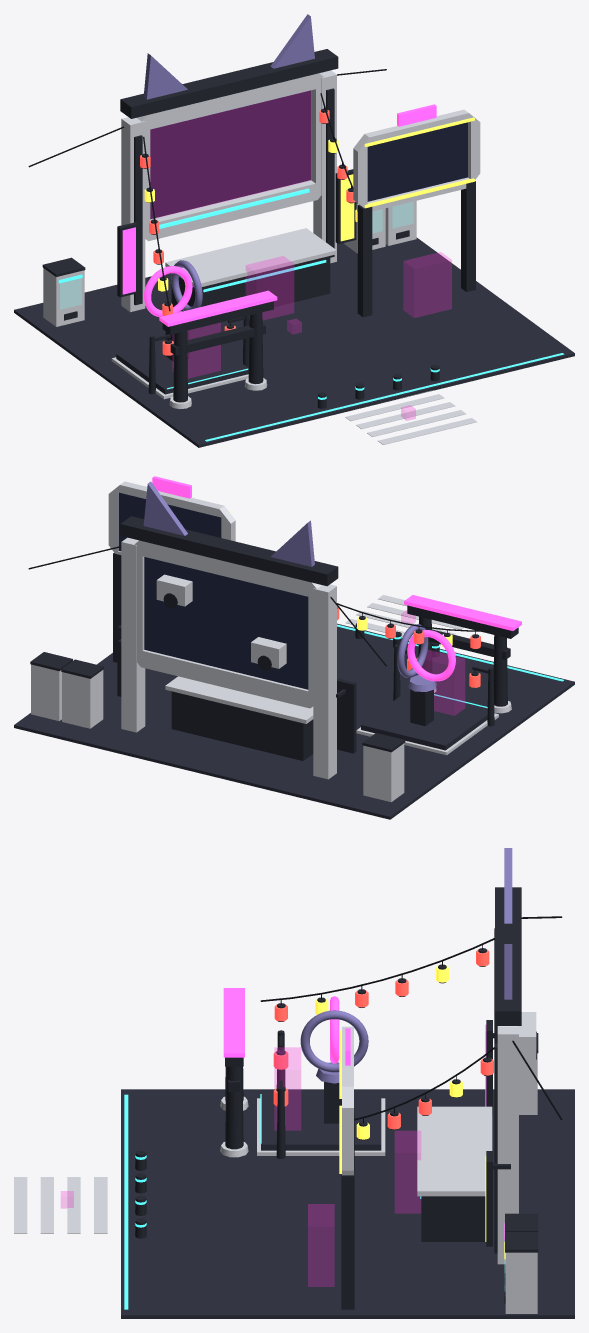
Rendered from AAT_QuestBond.glb.
The picture shows the model from 3 angles, top to bottom: view 1: azimuth 30°, elevation 25°; view 2: azimuth 150°, elevation 25°; view 3: azimuth 270°, elevation 25°; orthographic projection. The views are drawn at different scales.
Parts seen in each view (by area): view 1: Floor_QuestDistrict__floor, QuestBondDeco__pearl, MK_Screen_Quests, QuestScreen__screen, QuestBondDeco__graphite, EventsScreen__screen, Wall_QuestKiosk__graphite, Floor_BondShrine__floor, QuestBondDeco__magenta, MK_Station_Events, QuestBondDeco__bio, Wall_QuestScreenPostL__pearl (+12 smaller); view 2: Floor_QuestDistrict__floor, QuestBondDeco__pearl, QuestScreen__screen, QuestBondDeco__graphite, Wall_QuestKiosk__graphite, Wall_QuestScreenPostL__pearl, Floor_BondShrine__floor, Wall_QuestScreenPostR__pearl, QuestBondDeco__lavender, QuestBondDeco__magenta, EventsScreen__screen, MK_Station_Bonds (+7 smaller); view 3: Floor_QuestDistrict__floor, QuestBondDeco__pearl, QuestBondDeco__graphite, Floor_BondShrine__floor, Wall_QuestScreenPostR__pearl, Wall_QuestKiosk__graphite, MK_Station_Events, MK_Station_Quests, QuestBondDeco__magenta, Wall_EventsPostR__graphite, QuestBondDeco__lantern, MK_Station_Bonds (+6 smaller).
Boxes of the visible parts, left/top/right/bottom form: Floor_QuestDistrict__floor: left=14, top=237, right=574, bottom=447; QuestBondDeco__pearl: left=43, top=73, right=480, bottom=444; MK_Screen_Quests: left=150, top=90, right=311, bottom=219; QuestScreen__screen: left=150, top=90, right=310, bottom=219; QuestBondDeco__graphite: left=42, top=49, right=439, bottom=408; EventsScreen__screen: left=367, top=122, right=467, bottom=201; Wall_QuestKiosk__graphite: left=171, top=256, right=330, bottom=311; Floor_BondShrine__floor: left=116, top=333, right=248, bottom=394; QuestBondDeco__magenta: left=122, top=104, right=436, bottom=326; MK_Station_Events: left=403, top=252, right=451, bottom=317; QuestBondDeco__bio: left=58, top=188, right=564, bottom=441; Wall_QuestScreenPostL__pearl: left=121, top=117, right=145, bottom=312; Floor_QuestDistrict__floor: left=14, top=623, right=574, bottom=819; QuestBondDeco__pearl: left=31, top=481, right=511, bottom=802; QuestScreen__screen: left=144, top=557, right=308, bottom=689; QuestBondDeco__graphite: left=30, top=516, right=518, bottom=753; Wall_QuestKiosk__graphite: left=171, top=691, right=313, bottom=760; Wall_QuestScreenPostL__pearl: left=313, top=584, right=336, bottom=779; Floor_BondShrine__floor: left=361, top=689, right=487, bottom=750; Wall_QuestScreenPostR__pearl: left=121, top=537, right=145, bottom=732; QuestBondDeco__lavender: left=143, top=481, right=436, bottom=691; QuestBondDeco__magenta: left=152, top=476, right=521, bottom=630; EventsScreen__screen: left=118, top=492, right=221, bottom=551; MK_Station_Bonds: left=417, top=650, right=464, bottom=715; Floor_QuestDistrict__floor: left=121, top=1089, right=574, bottom=1318; QuestBondDeco__pearl: left=14, top=1012, right=537, bottom=1313; QuestBondDeco__graphite: left=135, top=887, right=538, bottom=1303; Floor_BondShrine__floor: left=261, top=1094, right=381, bottom=1150; Wall_QuestScreenPostR__pearl: left=497, top=1026, right=518, bottom=1264; Wall_QuestKiosk__graphite: left=421, top=1196, right=485, bottom=1241; MK_Station_Events: left=308, top=1204, right=334, bottom=1286; MK_Station_Quests: left=395, top=1131, right=420, bottom=1213; QuestBondDeco__magenta: left=223, top=988, right=504, bottom=1240; Wall_EventsPostR__graphite: left=341, top=1170, right=354, bottom=1309; QuestBondDeco__lantern: left=273, top=949, right=493, bottom=1129; MK_Station_Bonds: left=274, top=1047, right=300, bottom=1130.
Bounding box in the file's own units: 40 × 25.6 × 42.
